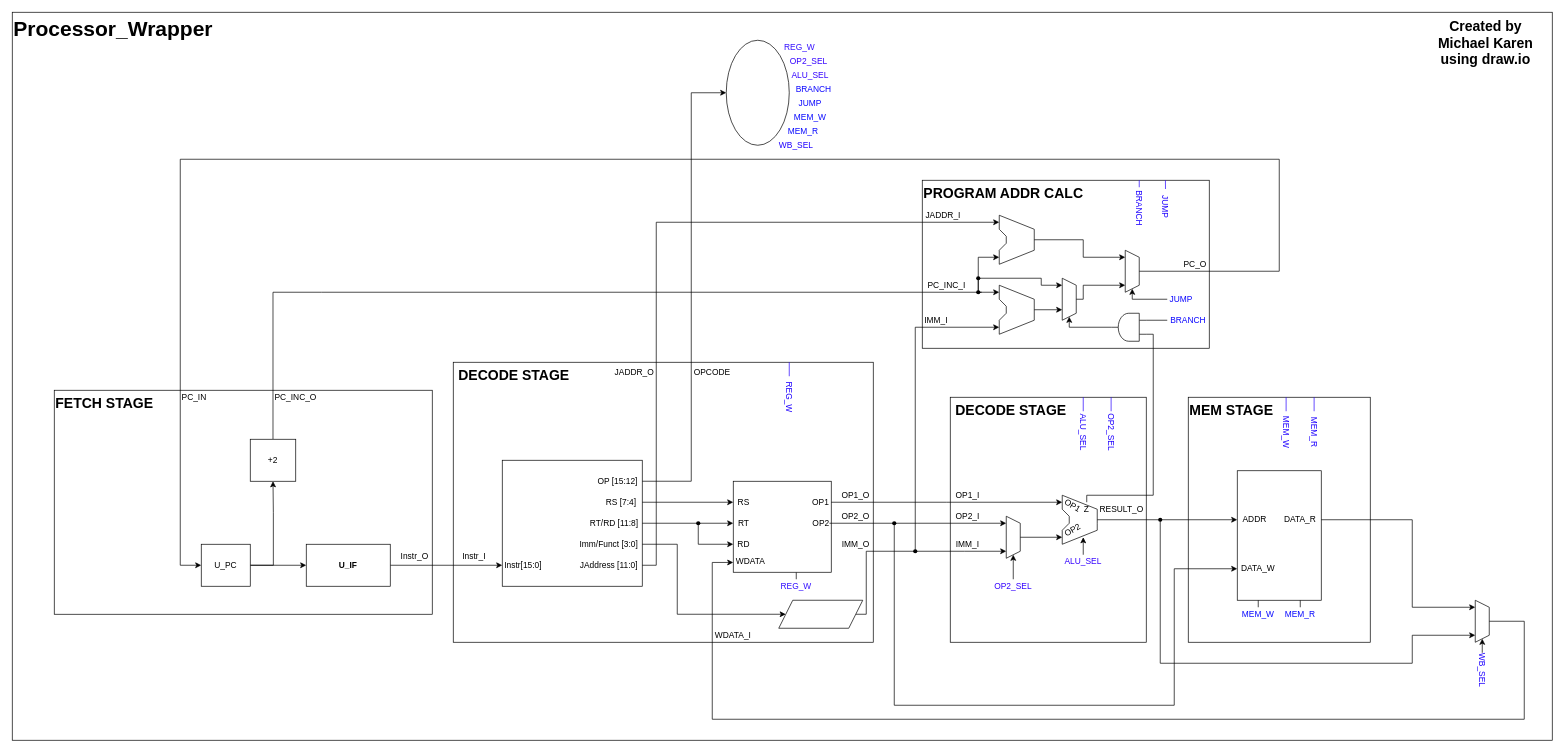
Some shapes in this 1565 by 753 pixel diagram are drawn without their labels. Each missing label, with the box of its shape:
CONTROL: (726, 40, 789, 145)
Sign Extend: (778, 600, 863, 628)
U_DM: (1237, 470, 1321, 600)
U_ID: (502, 460, 642, 586)
U_RF: (733, 481, 831, 572)
